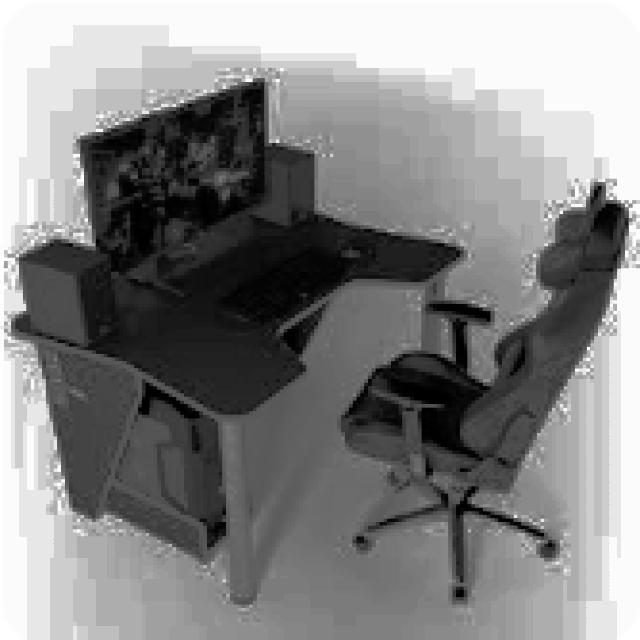book: (337, 182, 629, 601)
table: (8, 204, 464, 600)
